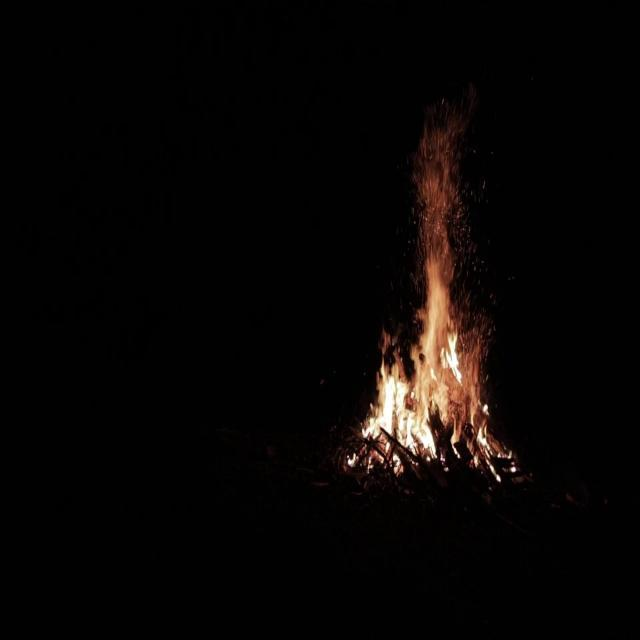Fire: (356, 258, 502, 466)
